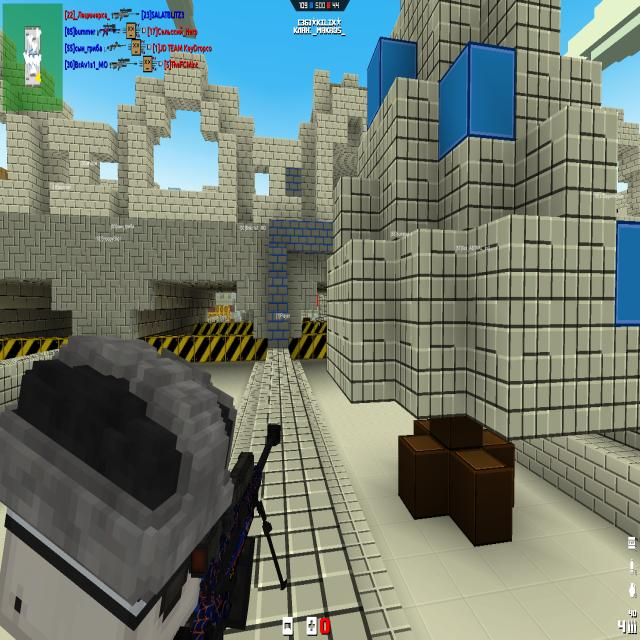player: (2, 336, 260, 640)
